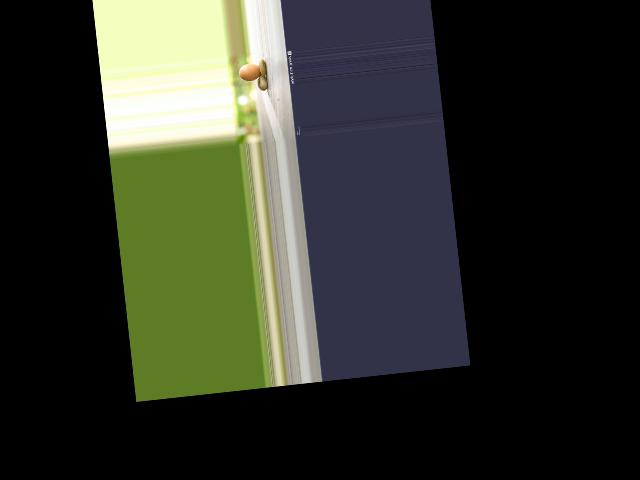egg: (238, 62, 261, 82)
